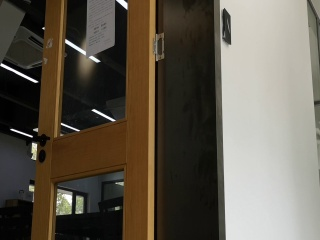room: (31, 3, 228, 240)
